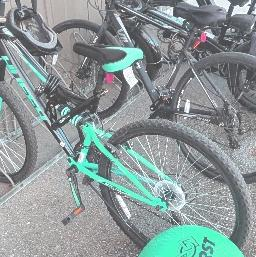algae: (130, 224, 256, 257)
